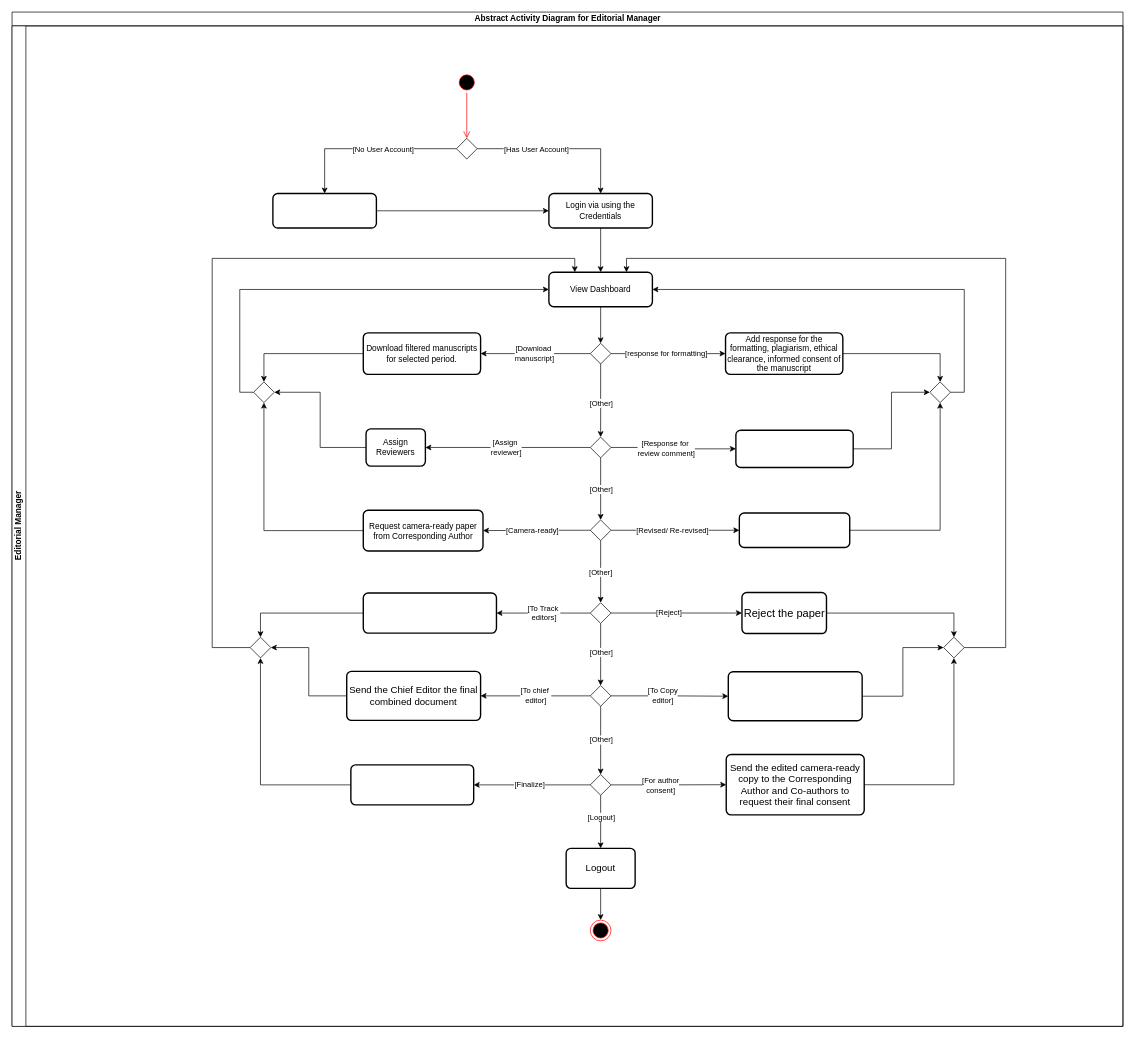
The diagram is 1135 pixels wide and 1038 high, and some of its shapes have lost their labels. The shapes that lost their labels are listed below. From the top down, each one's centre as x and y in pixels, then its label:
At [324,210]: "Create editorial manager account".
At [794,448]: "Respond to review comments form reviewers".
At [794,530]: "Check the Revised/ Re-revised Manuscript themselves".
At [429,612]: "Send the camera-ready copy to the respective Track Editor(s).".
At [794,696]: "Send the Track Editor's edited Camera-ready copy to the Copy Editor.".
At [412,784]: "Finalize and publish the paper.".
